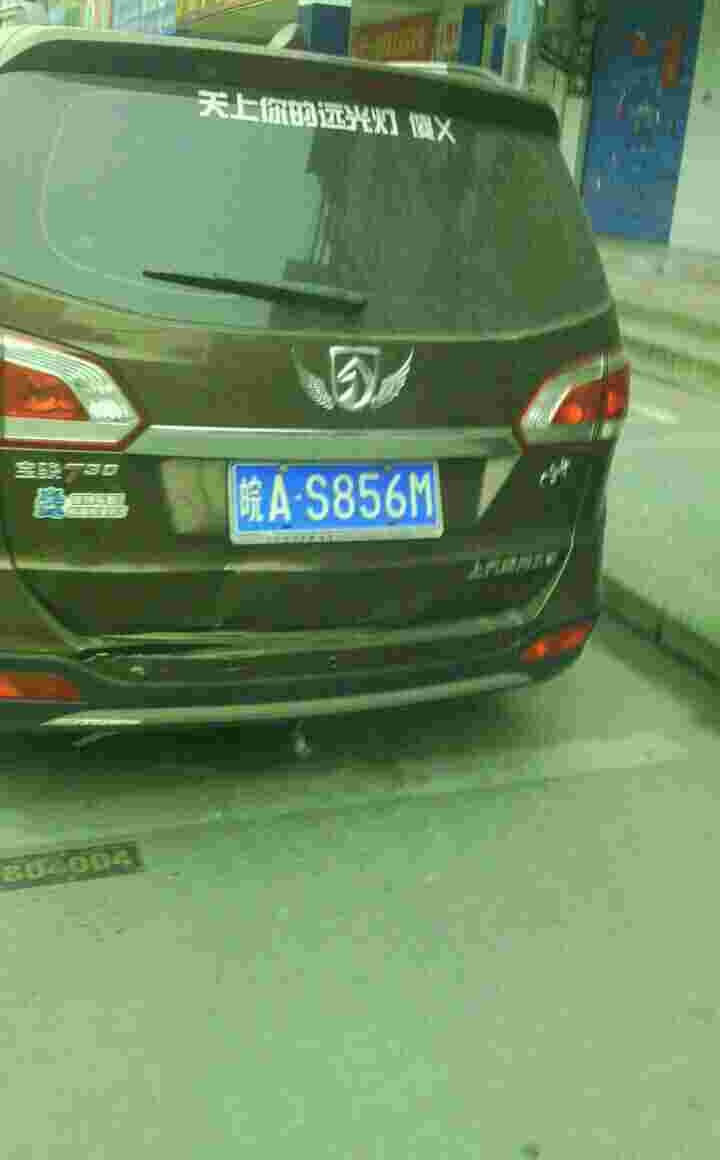license_plate: (228, 464, 451, 526)
